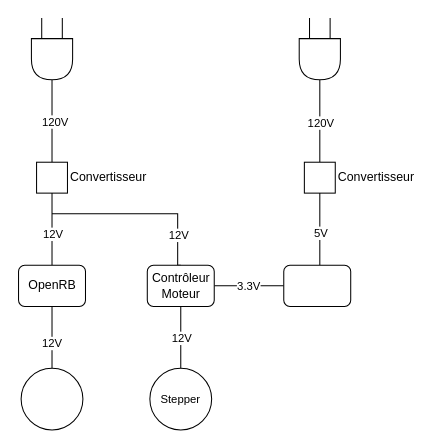
The diagram is 432 pixels wide and 448 high, and some of its shapes have lost their labels. The shapes that lost their labels are listed below. From the top down, each one's centre as x and y in pixels, then its label:
At (317,285): "RP5".
At (51,398): "Dynamixel".
